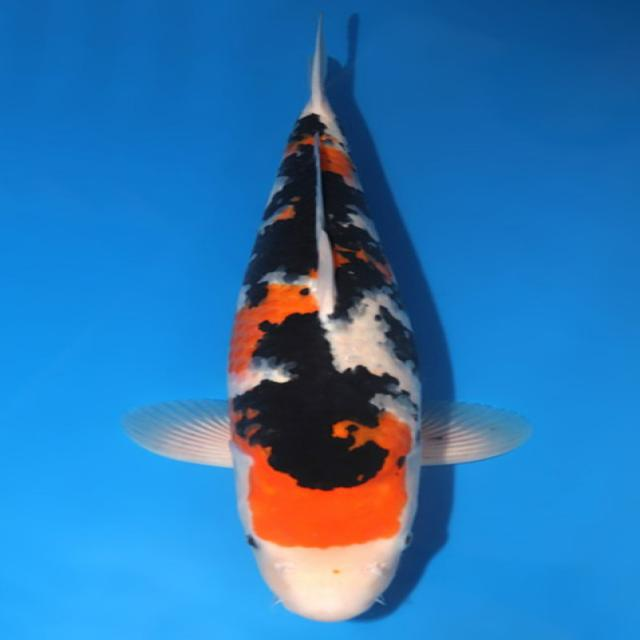Sanke: (122, 10, 530, 623)
